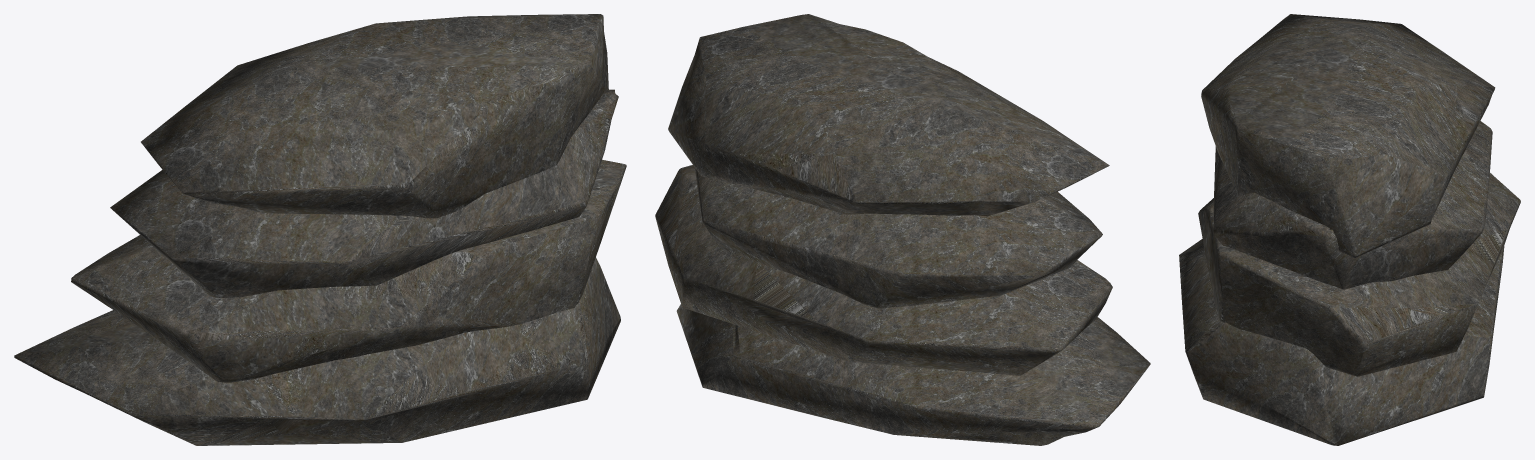
Rendered from stratified_outcrop_LOD1.fbx.
3 renders of one model, left to right at view 1: azimuth 30°, elevation 25°; view 2: azimuth 150°, elevation 25°; view 3: azimuth 270°, elevation 25°, orthographic. The views are drawn at different scales.
Visible parts, largest first — view 1: stratified_outcrop_LOD1; view 2: stratified_outcrop_LOD1; view 3: stratified_outcrop_LOD1.
Boxes of the visible parts, x1,y1,x2,y2 form: stratified_outcrop_LOD1: [14, 14, 626, 445]; stratified_outcrop_LOD1: [655, 14, 1150, 445]; stratified_outcrop_LOD1: [1179, 14, 1520, 445].
Bounding box in the file's own units: 579 × 319 × 350.
